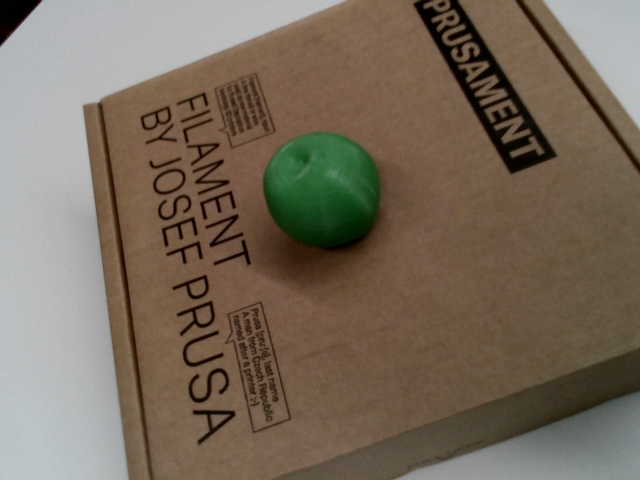green apple: (263, 132, 379, 247)
